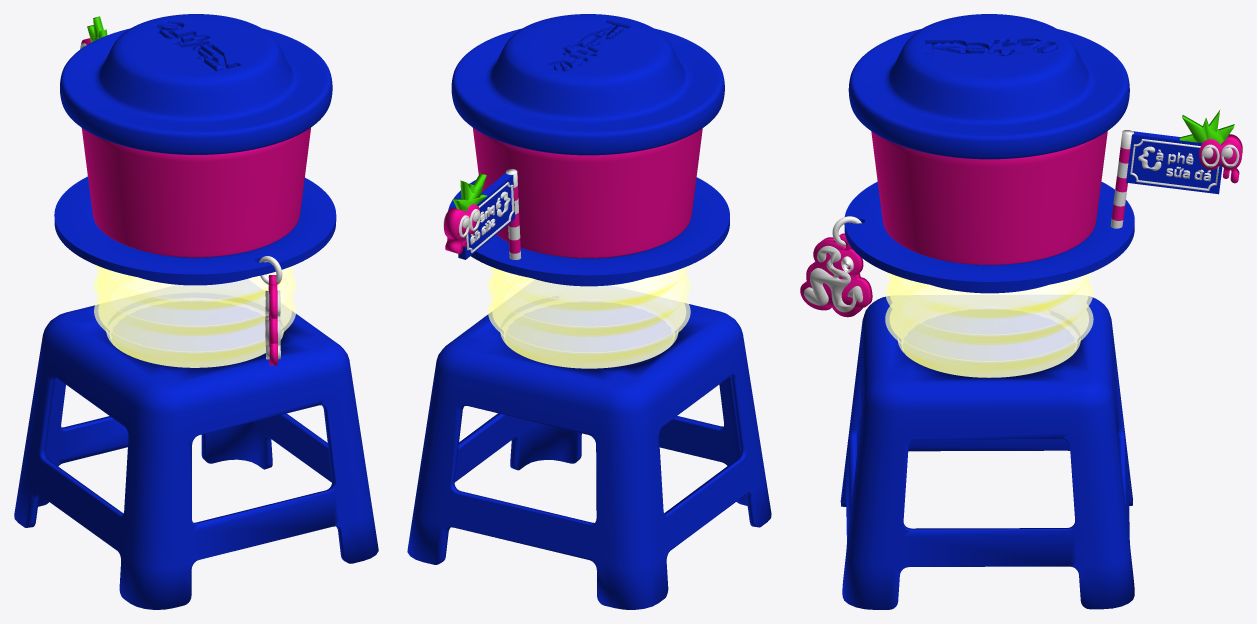
The model's file is dencfxanhđậm.glb.
The picture shows the model from 3 angles, left to right: view 1: azimuth 30°, elevation 25°; view 2: azimuth 150°, elevation 25°; view 3: azimuth 270°, elevation 25°; orthographic projection. The views are drawn at different scales.
Parts seen in each view (by area): view 1: Sphere.002, Sphere.007, Sphere.006, Sphere.004, Sphere.005, Sphere.031, Sphere.030; view 2: Sphere.002, Sphere.007, Sphere.006, Sphere.004, Sphere.005, Sphere.009, Sphere.029, Sphere.026; view 3: Sphere.002, Sphere.007, Sphere.006, Sphere.004, Sphere.005, Sphere.009, Sphere.031, Sphere.030, Sphere.029, Sphere.026.
Part boxes in pixels (<box>): Sphere.002: <box>14,293,378,609</box>; Sphere.007: <box>60,14,332,154</box>; Sphere.006: <box>81,128,310,257</box>; Sphere.004: <box>94,265,296,367</box>; Sphere.005: <box>54,176,336,285</box>; Sphere.031: <box>268,275,277,365</box>; Sphere.030: <box>265,291,280,359</box>; Sphere.002: <box>407,296,771,609</box>; Sphere.007: <box>451,14,724,155</box>; Sphere.006: <box>473,128,702,258</box>; Sphere.004: <box>488,265,690,368</box>; Sphere.005: <box>448,177,729,286</box>; Sphere.009: <box>458,173,514,259</box>; Sphere.029: <box>444,204,480,254</box>; Sphere.026: <box>452,173,486,211</box>; Sphere.002: <box>840,296,1134,609</box>; Sphere.007: <box>848,14,1129,159</box>; Sphere.006: <box>871,131,1107,264</box>; Sphere.004: <box>885,272,1093,377</box>; Sphere.005: <box>844,181,1134,293</box>; Sphere.009: <box>1126,131,1222,194</box>; Sphere.031: <box>800,233,872,317</box>; Sphere.030: <box>804,245,862,312</box>; Sphere.029: <box>1199,134,1242,183</box>; Sphere.026: <box>1179,109,1234,144</box>.
Size of the model in its own units: 0.529 by 0.9978 by 0.7965.
